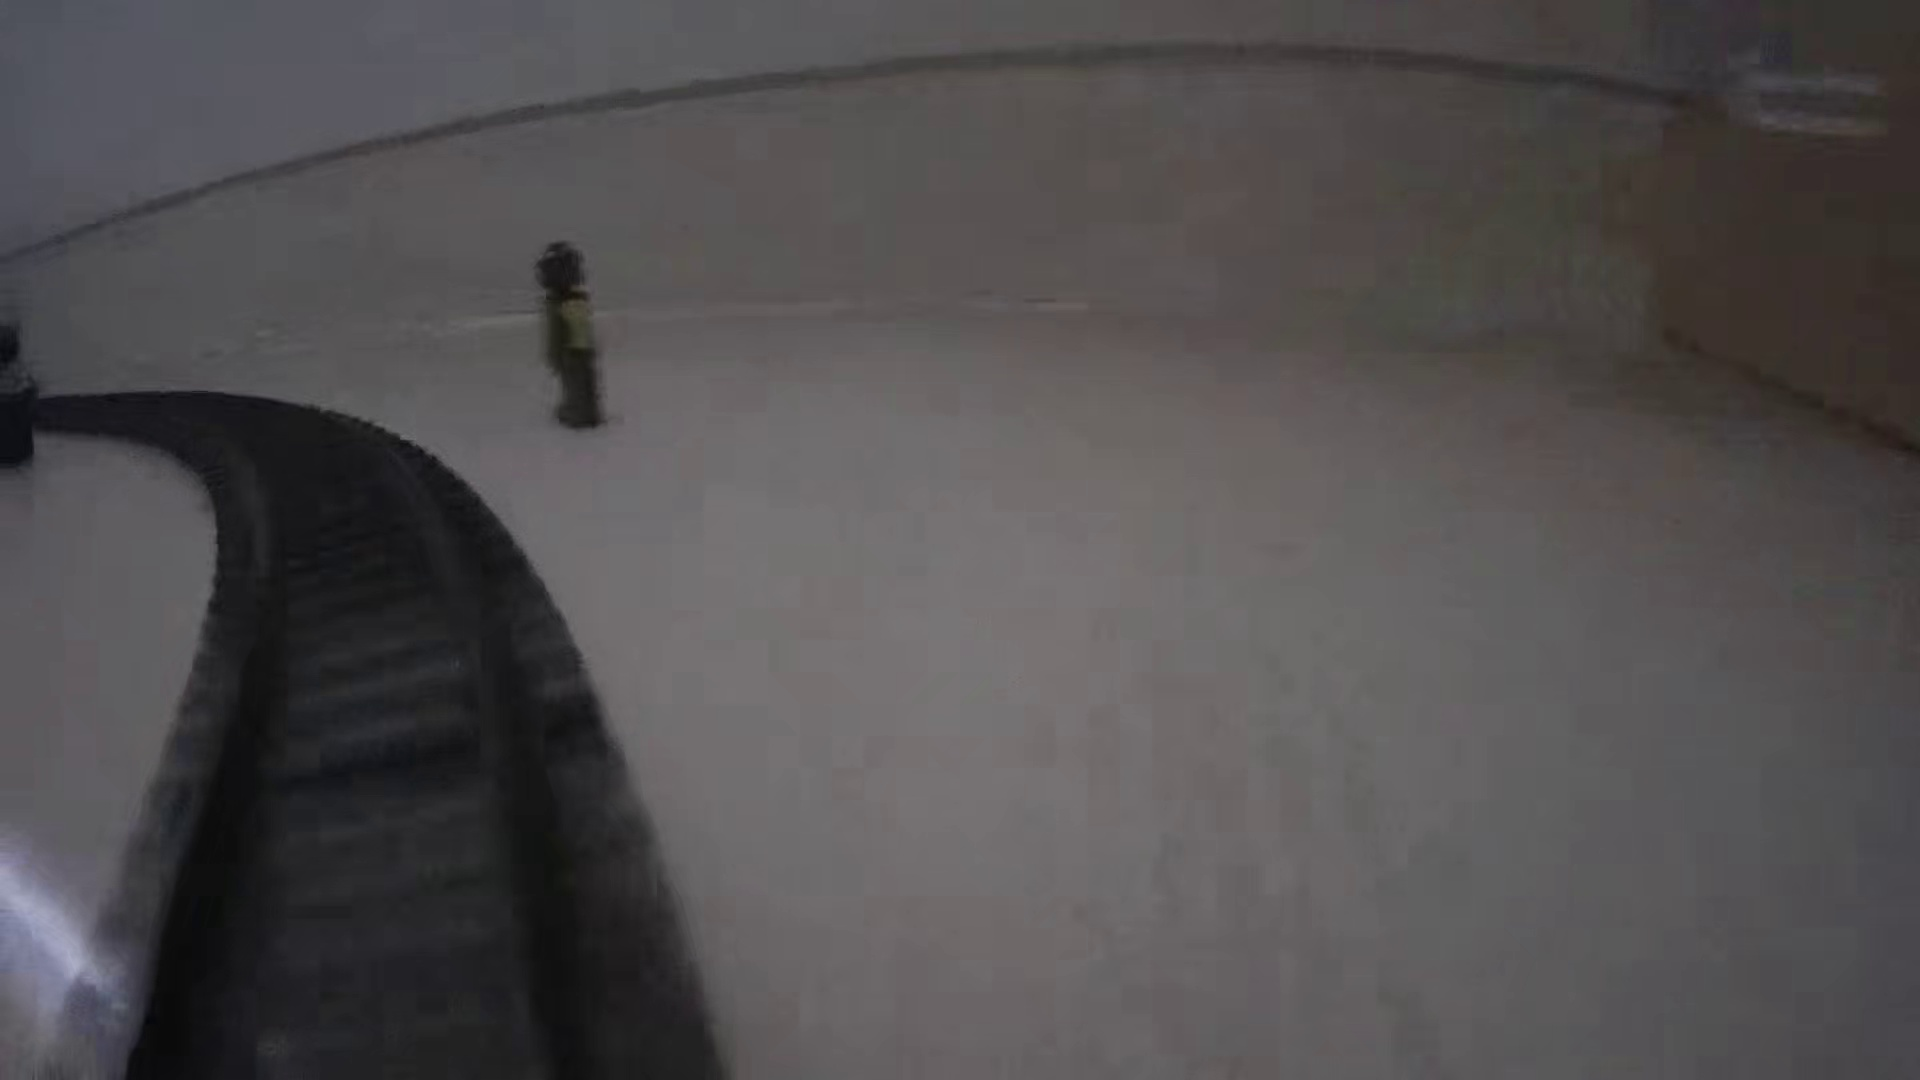people: (533, 236, 613, 441)
